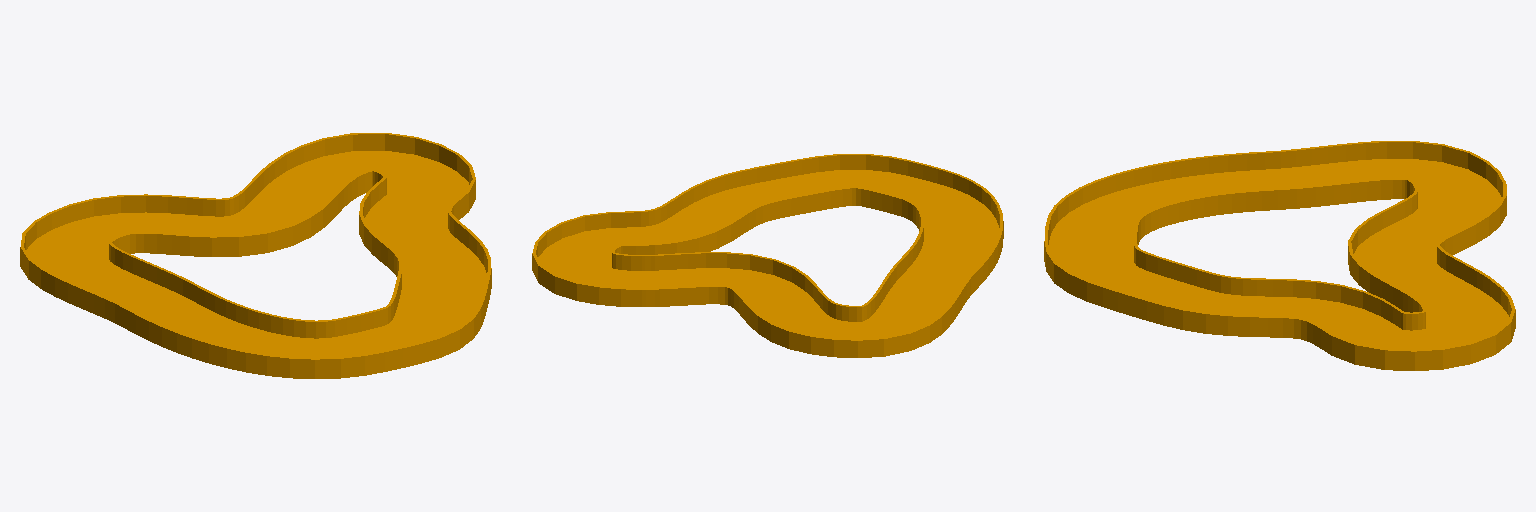
URDF robot description (track2):
<?xml version="1.0"?>
<robot name="track2">
  <link name="base_link">
   <visual>
     <origin xyz="0 0 0" rpy="0 0 0" />
       <geometry>
        <mesh filename="package://vehicle_gazebo/models/track2/meshes/track2.dae"/>
      </geometry>
   </visual>
   <collision>
     <origin xyz="0.0 0.0 0.0" rpy="0 0 0" />
     <geometry>
      <mesh filename="package://vehicle_gazebo/models/track2/meshes/track2.dae"/>
    </geometry>
    </collision>
  </link>
</robot>

--- Render facts (derived) ---
The picture shows the robot from 3 angles, left to right: view 1: azimuth 30°, elevation 25°; view 2: azimuth 150°, elevation 25°; view 3: azimuth 270°, elevation 25°; orthographic projection.
Robot: track2 — 1 links, 0 joints (none); root link base_link; default pose: every joint at zero.
Visible links, largest first — view 1: base_link; view 2: base_link; view 3: base_link.
Boxes of the visible links, x1,y1,x2,y2 form: base_link: [20, 133, 491, 378]; base_link: [532, 154, 1003, 357]; base_link: [1044, 141, 1515, 370].
Bounding box of the posed robot: 10.93 × 10.31 × 0.4772 m (x, y, z).
Meshes: 1 distinct files referenced, 1 mesh visuals loaded (1 Collada DAE).
